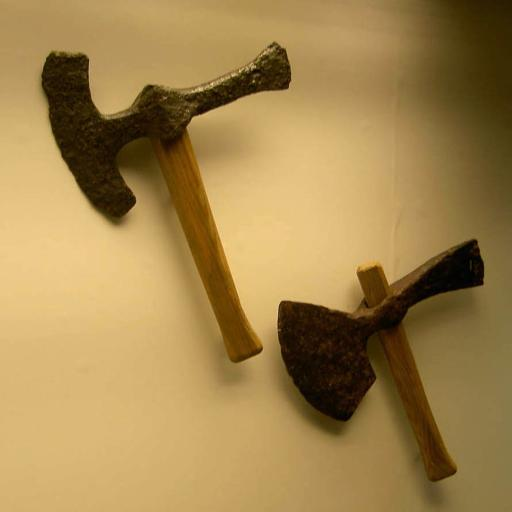Axe: (37, 47, 291, 366), (280, 237, 489, 482)
